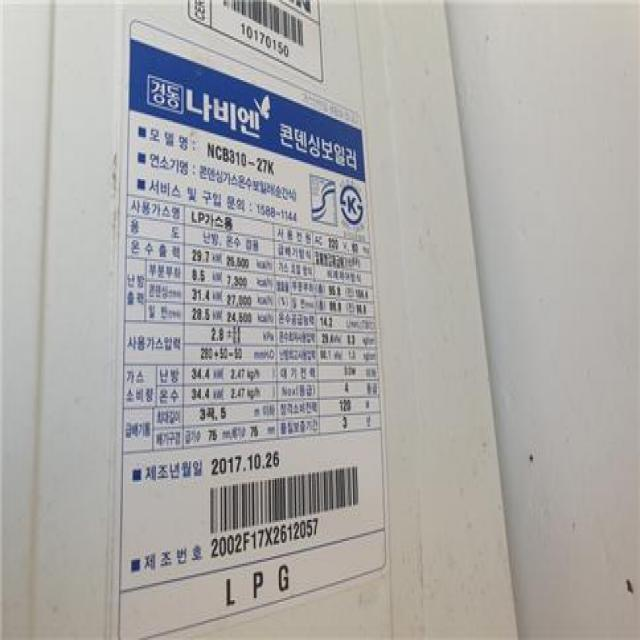Boiler: (1, 0, 540, 640)
